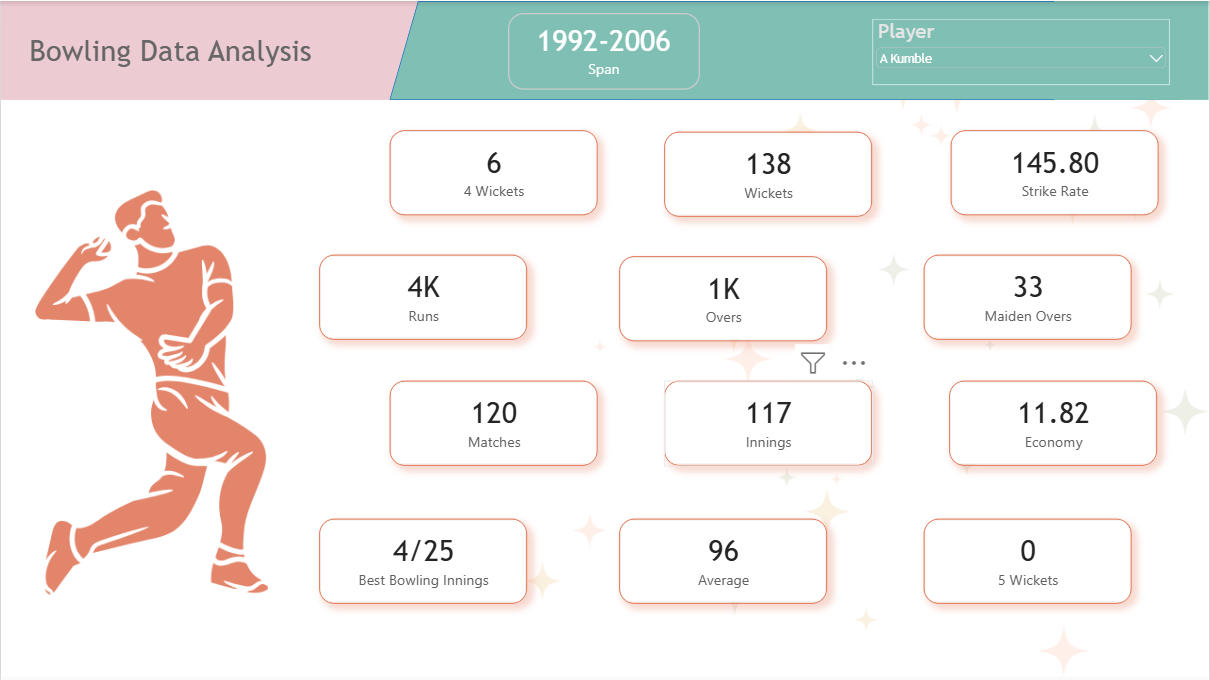

The page's visual inventory and layout, read from the dashboard file:
{"tool":"powerbi","page":{"name":"Bowling","canvas":[1920,1080],"ordinal":1},"visuals":[{"type":"shape","box":[0,0,1011.6,157.5],"z":0},{"type":"shape","box":[618,0,1302.7,157.5],"z":1000},{"type":"shape","box":[1674.9,0,245.7,157.5],"z":2000},{"type":"slicer","fields":{"Values":["Bowling.Player"]},"box":[1386.2,28.6,472.4,105],"z":3000},{"type":"cardVisual","fields":{"Data":["Min(Bowling.Span)"]},"box":[806.4,19.1,305.4,121.7],"z":4000},{"type":"cardVisual","fields":{"Data":["Sum(Bowling.Wkts)"]},"box":[1054.6,207.6,331.6,136],"z":5000},{"type":"cardVisual","fields":{"Data":["Sum(Bowling.SR)"]},"box":[1510.3,205.2,331.6,136],"z":6000},{"type":"cardVisual","fields":{"Data":["Sum(Bowling.Runs)"]},"box":[505.8,403.2,331.6,136],"z":7000},{"type":"cardVisual","fields":{"Data":["Sum(Bowling.Overs)"]},"box":[983,405.6,331.6,136],"z":8000},{"type":"cardVisual","fields":{"Data":["Sum(Bowling.Mdns)"]},"box":[1467.3,403.2,331.6,136],"z":9000},{"type":"cardVisual","fields":{"Data":["Sum(Bowling.Mat)"]},"box":[618,603.6,331.6,136],"z":10000},{"type":"cardVisual","fields":{"Data":["Sum(Bowling.Inns)"]},"box":[1054.6,603.6,331.6,136],"z":11000},{"type":"cardVisual","fields":{"Data":["Sum(Bowling.Econ)"]},"box":[1507.9,603.6,331.6,136],"z":12000},{"type":"cardVisual","fields":{"Data":["Min(Bowling.BBI)"]},"box":[505.8,823.1,331.6,136],"z":13000},{"type":"cardVisual","fields":{"Data":["Sum(Bowling.Ave)"]},"box":[983,823.1,331.6,136],"z":14000},{"type":"cardVisual","fields":{"Data":["Sum(Bowling.5)"]},"box":[1467.3,823.1,331.6,136],"z":15000},{"type":"cardVisual","fields":{"Data":["Sum(Bowling.4)"]},"box":[618,205.2,331.6,136],"z":16000}]}

Visuals, with their boxes in screenshot pixels (x1, y1, x2, y2), scaled from the page's 1920x1080 canvas onto the 1210x680 screenshot:
shape: (left=0, top=0, right=638, bottom=99)
shape: (left=389, top=0, right=1209, bottom=99)
shape: (left=1056, top=0, right=1209, bottom=99)
slicer - Bowling.Player: (left=874, top=18, right=1171, bottom=84)
cardVisual - Min(Bowling.Span): (left=508, top=12, right=701, bottom=89)
cardVisual - Sum(Bowling.Wkts): (left=665, top=131, right=874, bottom=216)
cardVisual - Sum(Bowling.SR): (left=952, top=129, right=1161, bottom=215)
cardVisual - Sum(Bowling.Runs): (left=319, top=254, right=528, bottom=339)
cardVisual - Sum(Bowling.Overs): (left=619, top=255, right=828, bottom=341)
cardVisual - Sum(Bowling.Mdns): (left=925, top=254, right=1134, bottom=339)
cardVisual - Sum(Bowling.Mat): (left=389, top=380, right=598, bottom=466)
cardVisual - Sum(Bowling.Inns): (left=665, top=380, right=874, bottom=466)
cardVisual - Sum(Bowling.Econ): (left=950, top=380, right=1159, bottom=466)
cardVisual - Min(Bowling.BBI): (left=319, top=518, right=528, bottom=604)
cardVisual - Sum(Bowling.Ave): (left=619, top=518, right=828, bottom=604)
cardVisual - Sum(Bowling.5): (left=925, top=518, right=1134, bottom=604)
cardVisual - Sum(Bowling.4): (left=389, top=129, right=598, bottom=215)
